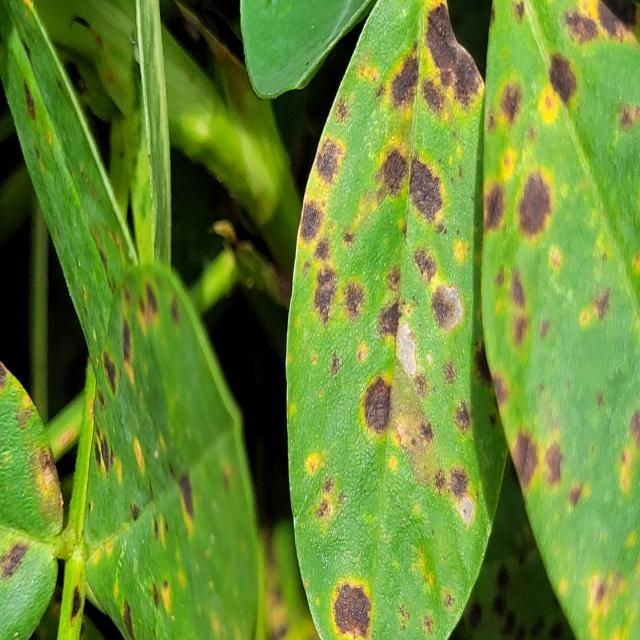Ground nut_tikka leaf spot: (285, 3, 519, 640), (481, 0, 640, 640)
